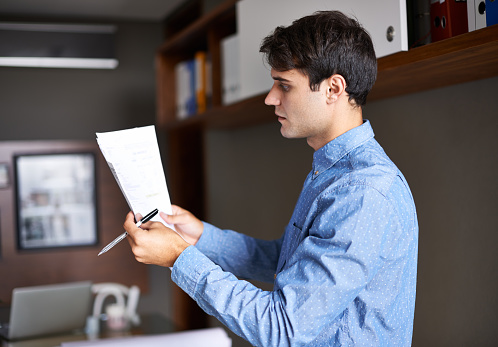em pe: (85, 29, 417, 346)
